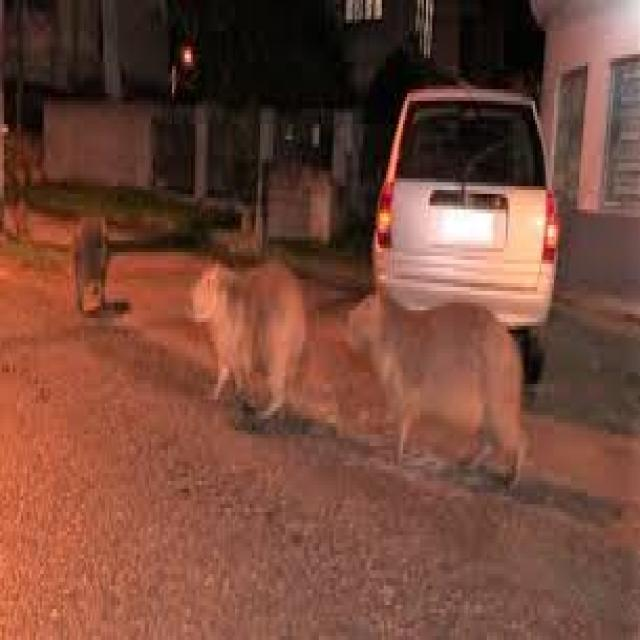capy: (342, 277, 532, 497), (182, 250, 301, 430)
